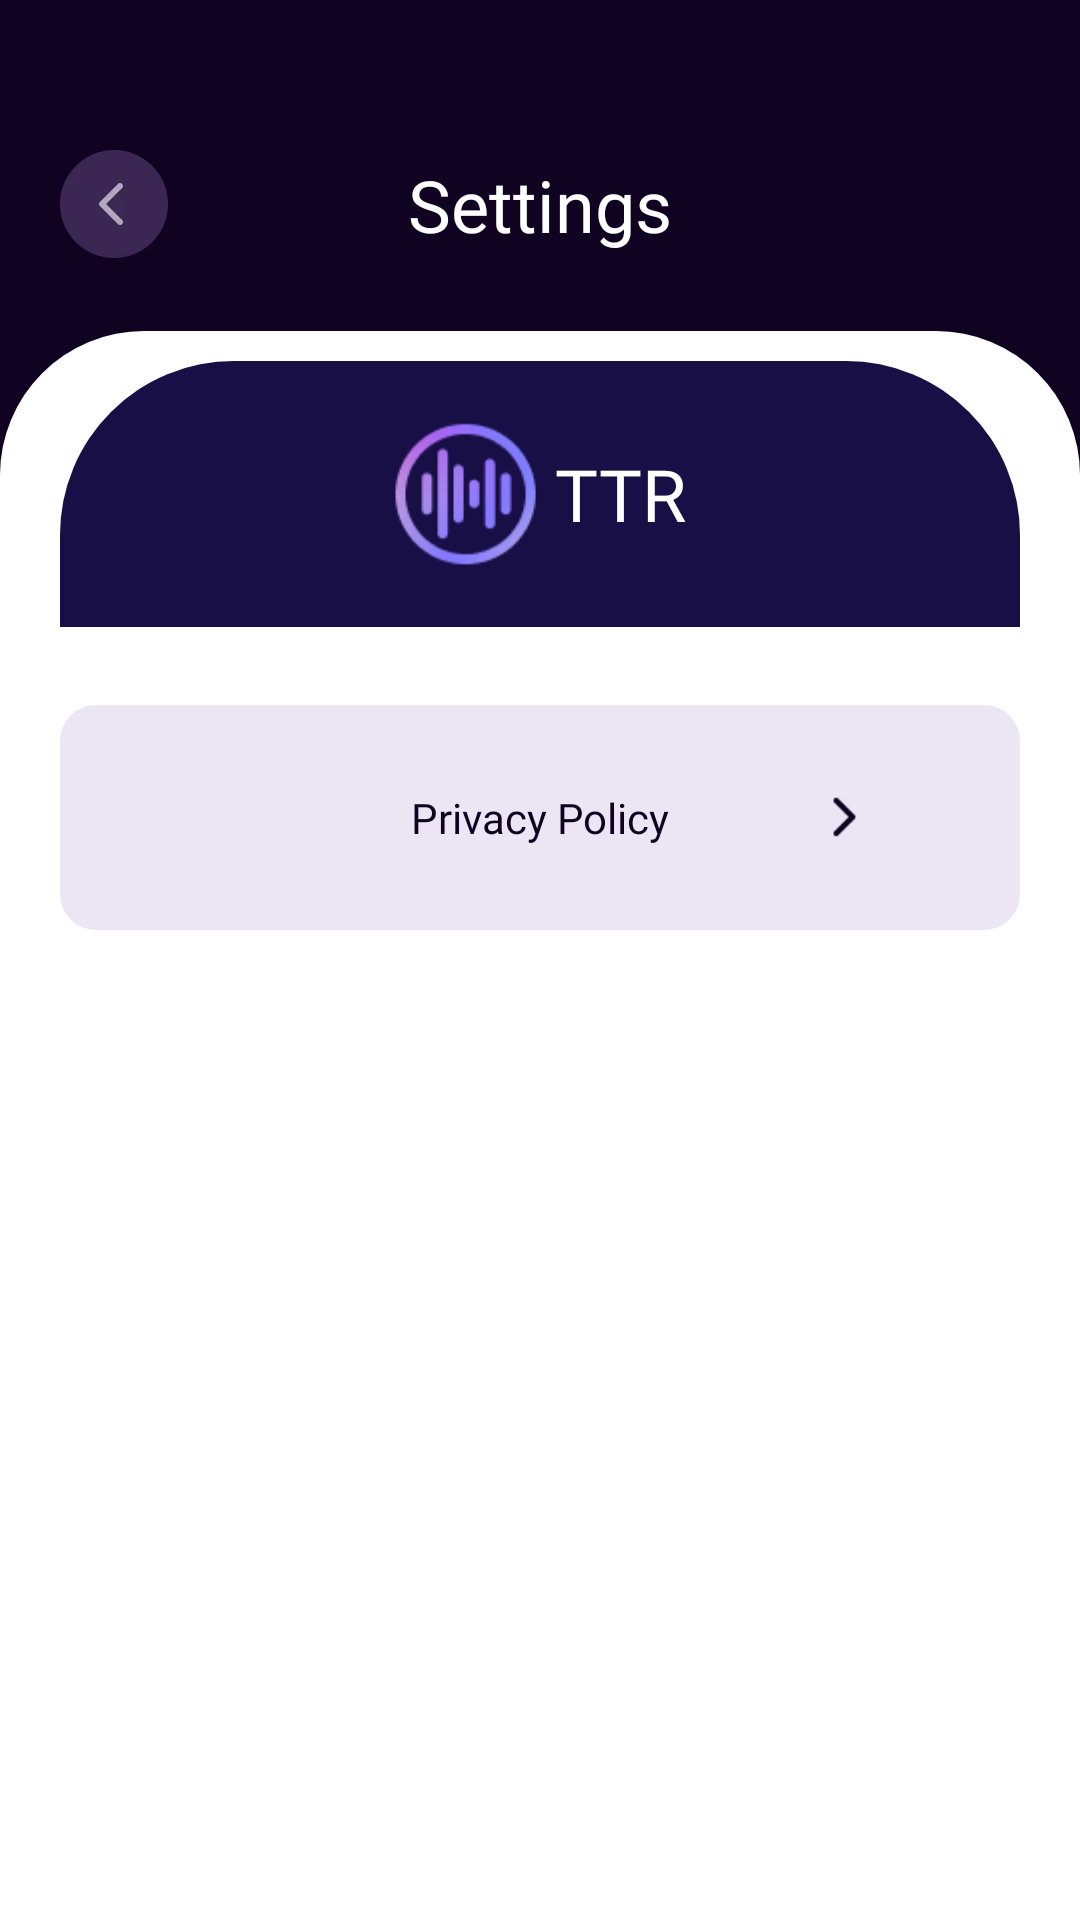

Icons on this 1080 × 1920 Android screen, each with its box as (x1, y1, x2, y2):
back: (60, 150, 168, 258)
right: (833, 797, 856, 837)
